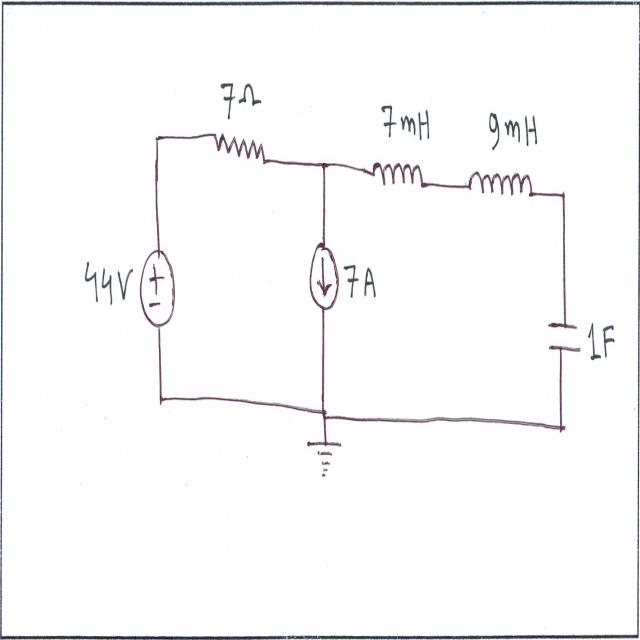capacitor: (543, 314, 585, 360)
current_source: (308, 239, 341, 312)
ground: (303, 428, 346, 482)
inductor: (464, 163, 534, 206), (370, 149, 429, 199)
resistor: (208, 126, 272, 171)
voltage_source: (137, 242, 180, 335)
